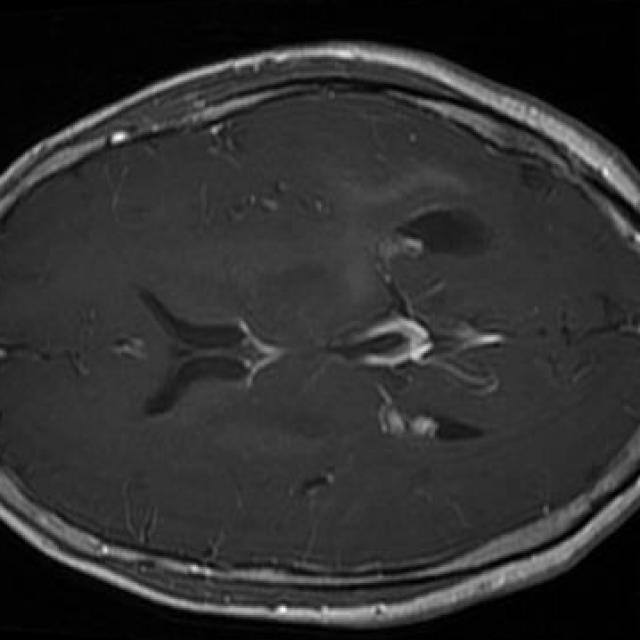glioma: (344, 169, 492, 299)
